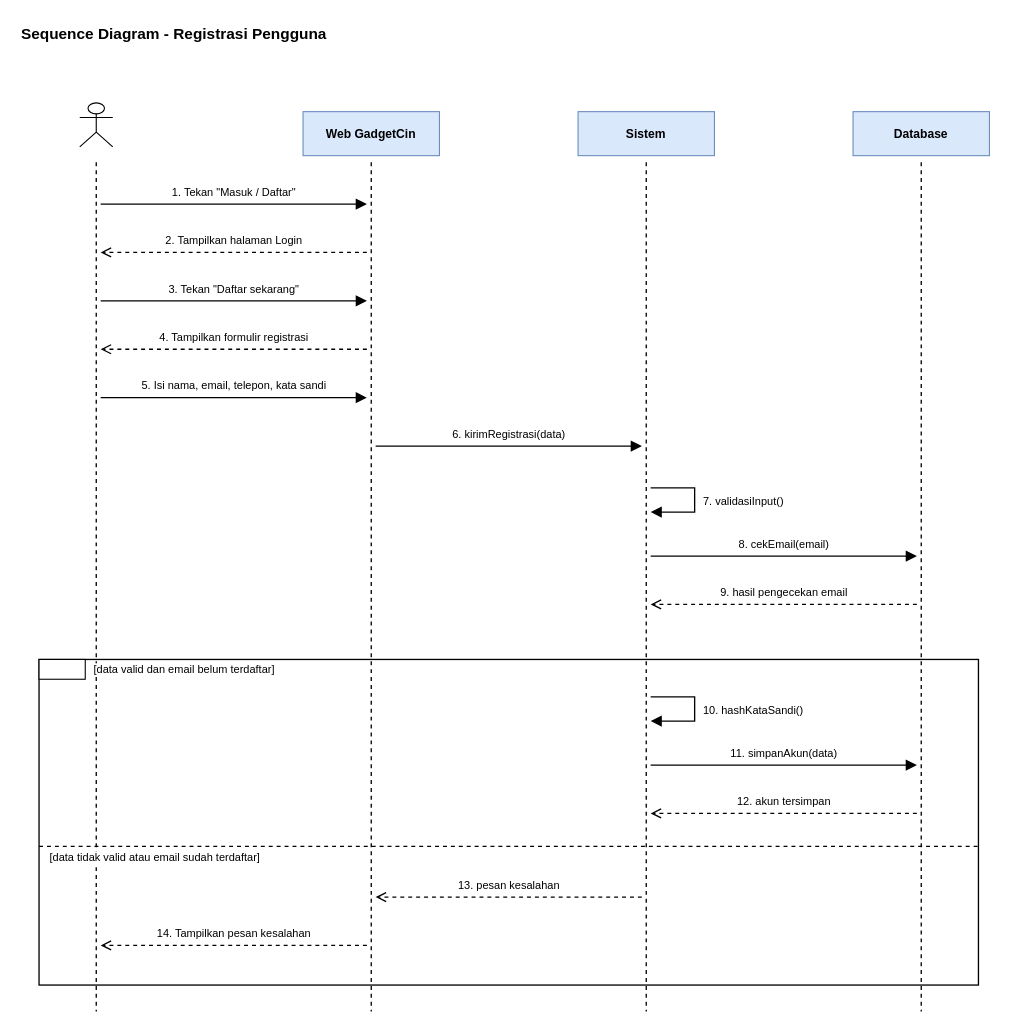
Some shapes in this 1016 by 1032 pixel diagram are drawn without their labels. The centre of each missing label's shape, as x and y in pixels:
alt: (61,668)
Pengguna: (96,124)
